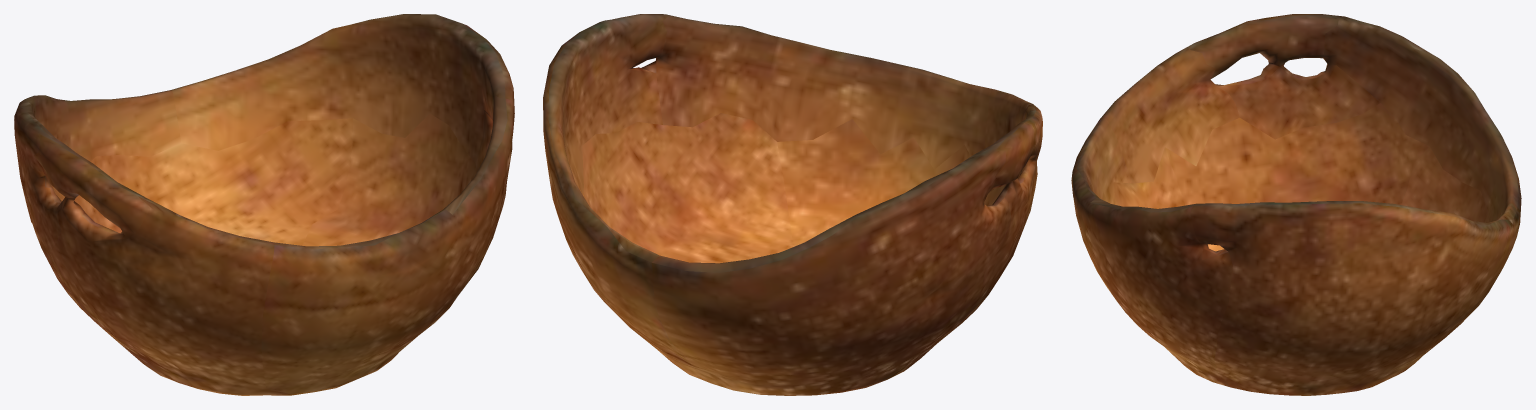
The model's file is wooden_bowl_02.glb.
3 views of the same model, side by side, from view 1: azimuth 30°, elevation 25°; view 2: azimuth 150°, elevation 25°; view 3: azimuth 270°, elevation 25° (orthographic). The views are drawn at different scales.
Parts seen in each view (by area): view 1: wooden_bowl_02_lod0; view 2: wooden_bowl_02_lod0; view 3: wooden_bowl_02_lod0.
Boxes of the visible parts, x1=… form: wooden_bowl_02_lod0: x1=14, y1=14, x2=514, y2=395; wooden_bowl_02_lod0: x1=543, y1=14, x2=1042, y2=395; wooden_bowl_02_lod0: x1=1071, y1=14, x2=1521, y2=395.
Size of what is drawn, in the model's own units: 0.1307 by 0.0731 by 0.1245.
1 material, 1 textured.
